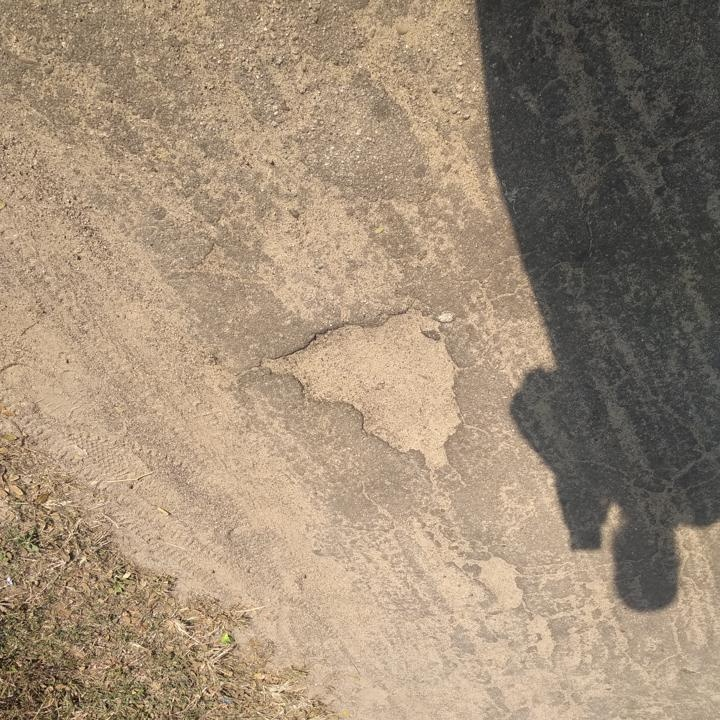pothole: (256, 306, 472, 477), (465, 554, 528, 613)
